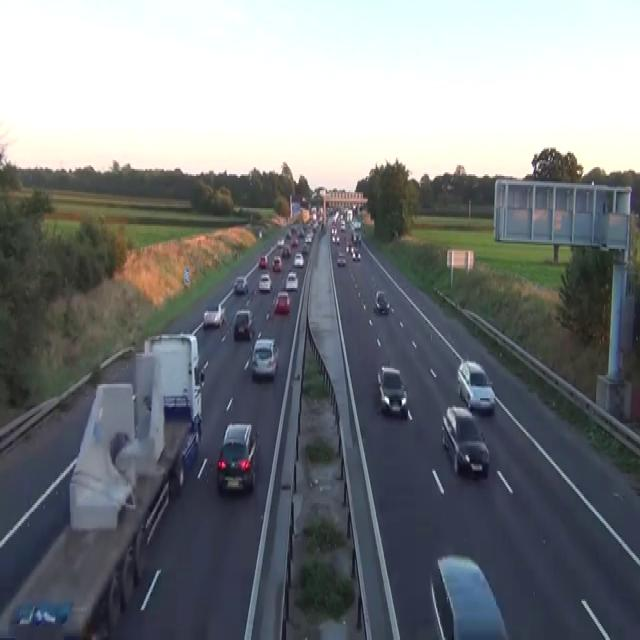Car: (429, 553, 510, 638), (440, 406, 489, 478), (216, 422, 259, 492), (8, 599, 74, 638), (456, 359, 495, 413), (168, 430, 198, 494), (377, 364, 407, 416), (250, 338, 279, 378), (233, 310, 254, 340), (203, 302, 225, 327), (373, 290, 390, 313), (274, 290, 290, 313), (233, 276, 248, 294), (258, 272, 271, 292), (285, 270, 298, 290), (293, 250, 303, 266), (336, 250, 346, 266), (272, 256, 282, 270), (351, 247, 361, 261), (258, 254, 268, 267), (351, 231, 361, 244), (281, 245, 291, 258), (352, 219, 361, 229), (304, 233, 312, 243), (290, 237, 298, 247), (277, 237, 284, 247), (300, 196, 307, 206), (346, 240, 351, 252), (301, 244, 308, 252), (446, 183, 454, 190), (312, 222, 318, 231), (340, 219, 345, 229), (290, 226, 297, 233), (285, 230, 291, 238), (298, 228, 304, 236), (258, 228, 262, 238), (336, 234, 340, 243), (331, 226, 335, 234)
Truck: (0, 331, 204, 638), (68, 330, 204, 532), (143, 331, 203, 428)
